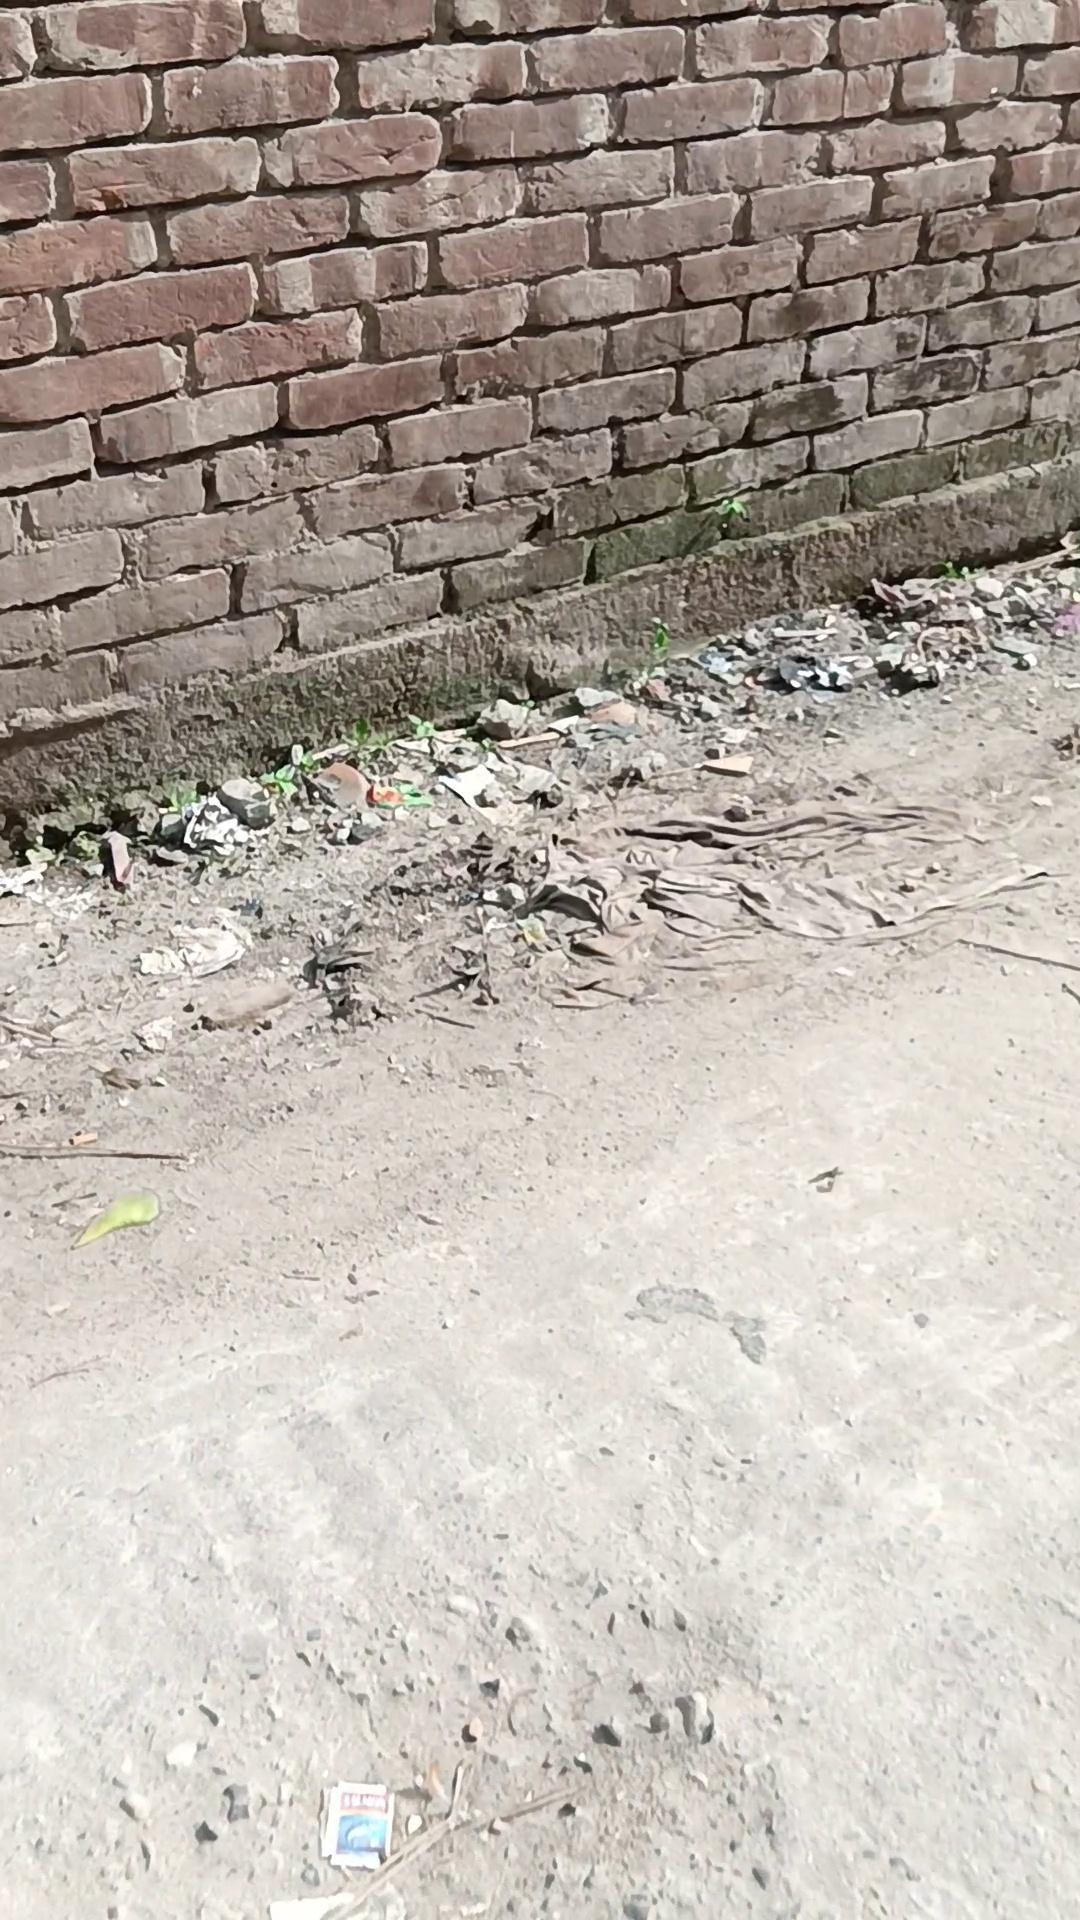Motorcycle: (319, 1780, 394, 1870)
Potted-plant: (0, 601, 1080, 1920)
Tree: (3, 0, 1077, 824)
